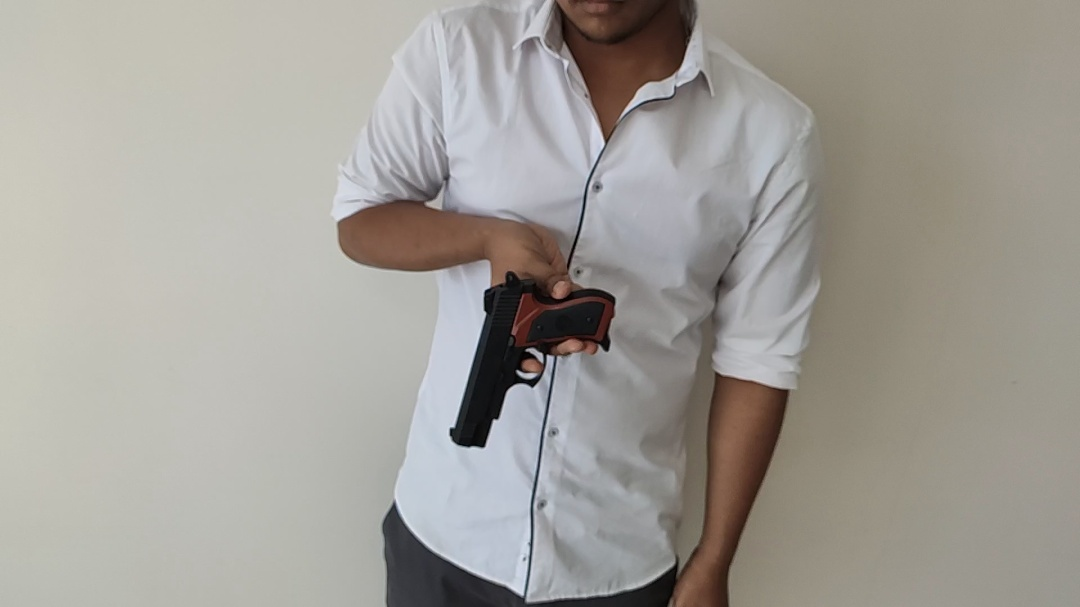gun: (449, 268, 617, 449)
